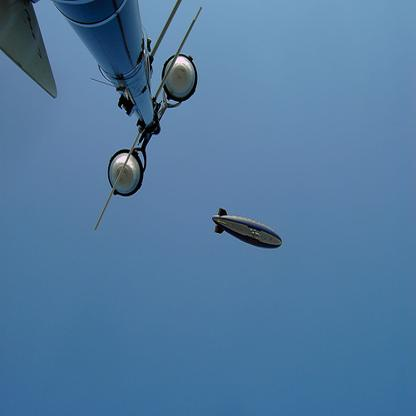Airship: (210, 205, 289, 262)
